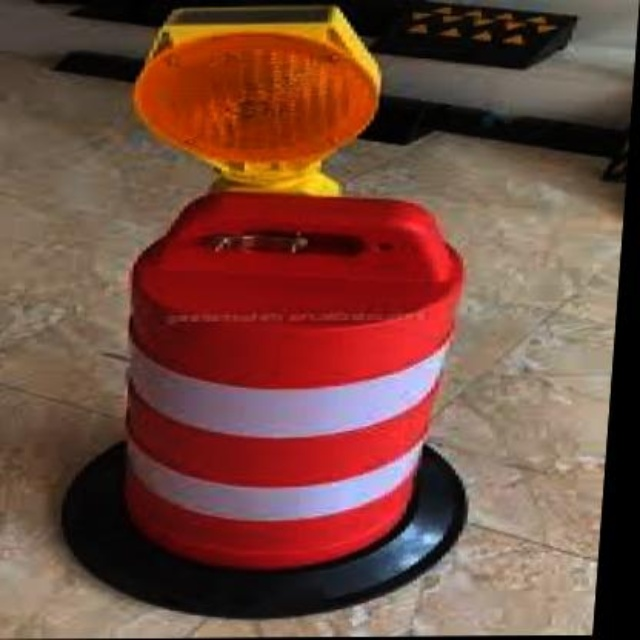obstacle: (93, 199, 491, 575)
